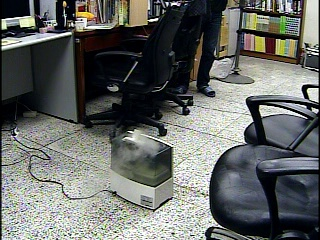smoke: (109, 123, 160, 173)
